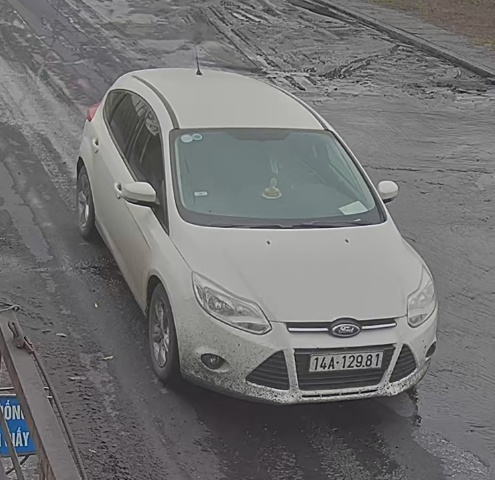vehicle plate: (306, 348, 395, 375)
